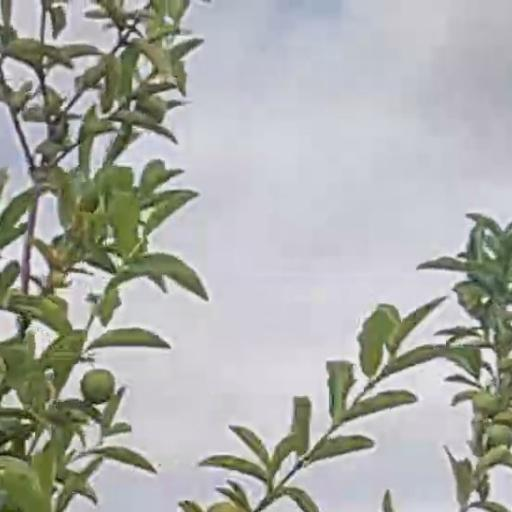acerola: (82, 369, 115, 401), (486, 420, 510, 446)
